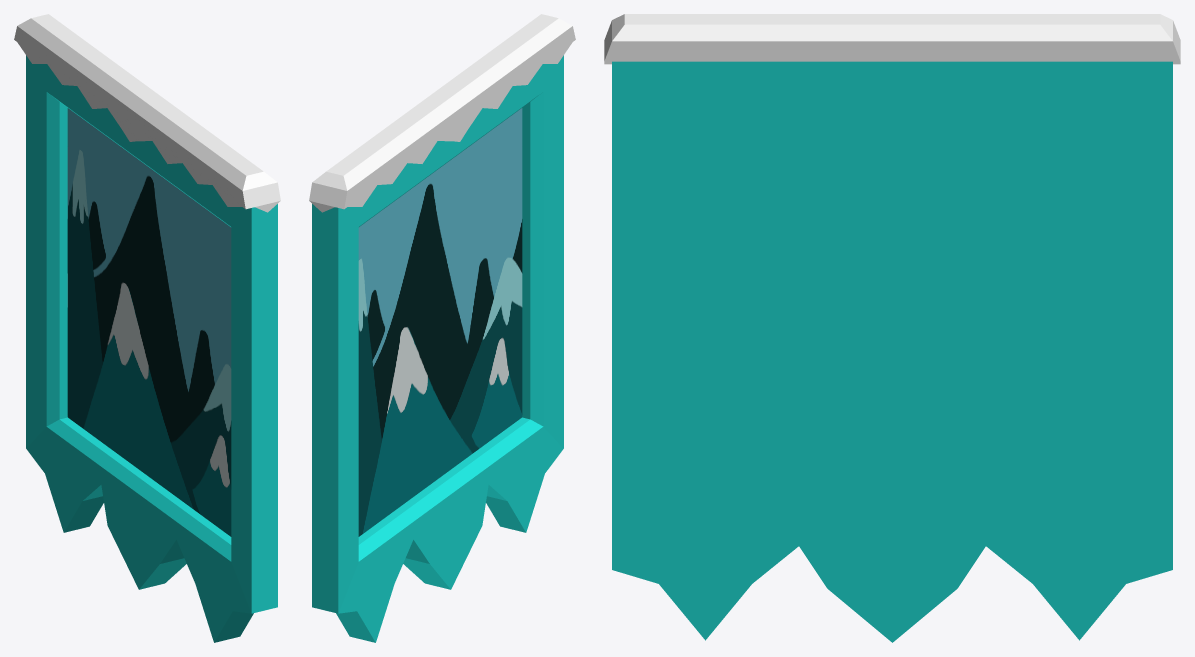
Rendered from CFrame 1.fbx.
3 views of the same model, side by side, from view 1: azimuth 30°, elevation 25°; view 2: azimuth 150°, elevation 25°; view 3: azimuth 270°, elevation 25° (orthographic). The views are drawn at different scales.
Parts seen in each view (by area): view 1: Plane; view 2: Plane; view 3: Plane.
Part boxes in pixels (x1,y1,x2,y2): Plane: (14,14,280,642); Plane: (309,14,575,642); Plane: (604,14,1180,642).
Size of the model in its own units: 53.13 by 621 by 529.
3 materials, 1 textured.
